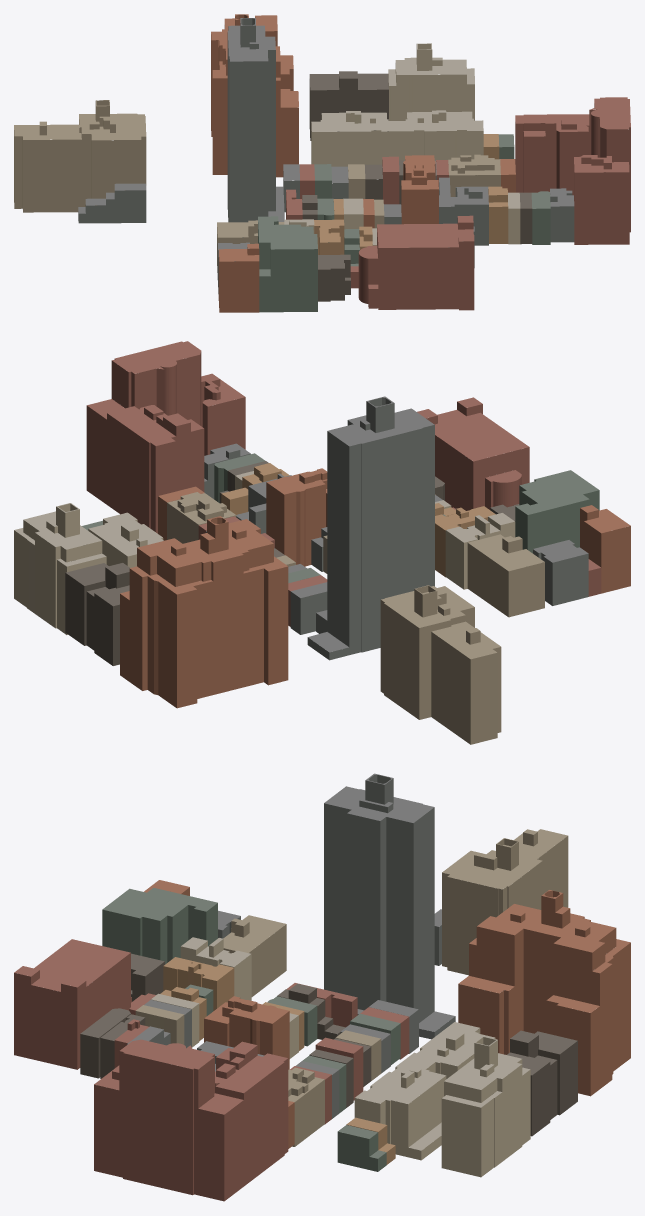
The model's file is tile-5_-3.glb.
The picture shows the model from 3 angles, top to bottom: view 1: azimuth 30°, elevation 25°; view 2: azimuth 150°, elevation 25°; view 3: azimuth 270°, elevation 25°; orthographic projection. The views are drawn at different scales.
Parts seen in each view (by area): view 1: wall, roof; view 2: wall, roof; view 3: wall, roof.
Boxes of the visible parts, x1,y1,x2,y2 form: wall: [14, 14, 630, 312]; roof: [14, 14, 630, 288]; wall: [14, 352, 630, 744]; roof: [14, 341, 630, 659]; wall: [14, 774, 630, 1201]; roof: [14, 773, 630, 1158].
Bounding box in the file's own units: 249 × 99.88 × 231.
